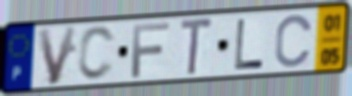C: (75, 24, 118, 83), (273, 12, 315, 70)
F: (129, 20, 172, 80)
L: (232, 17, 265, 72)
T: (178, 15, 215, 79)
V: (35, 24, 80, 88)
